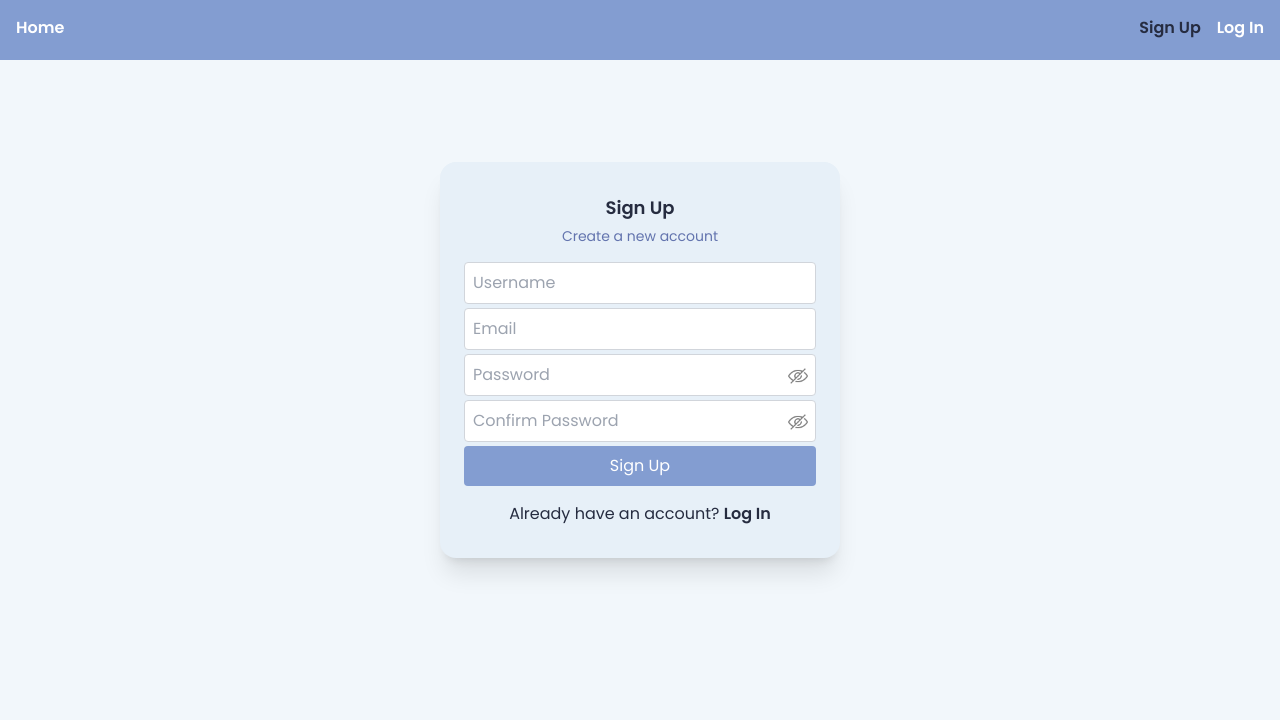
Test: Sign Up Page › displays error message on failed registration
Type "testuser" into the field named "username". click: (640, 283)
box: [464,262,816,304]
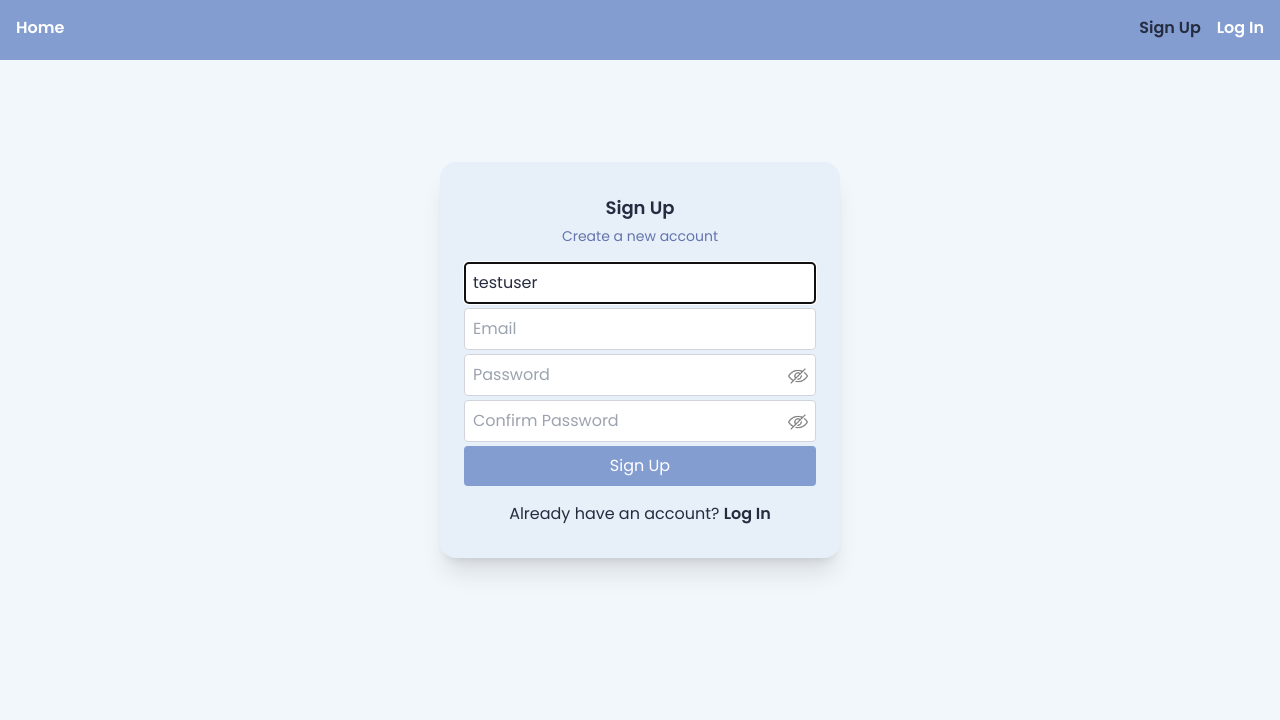
Type "test@example.com" into the field named "email". click: (640, 329)
box: [464,308,816,350]
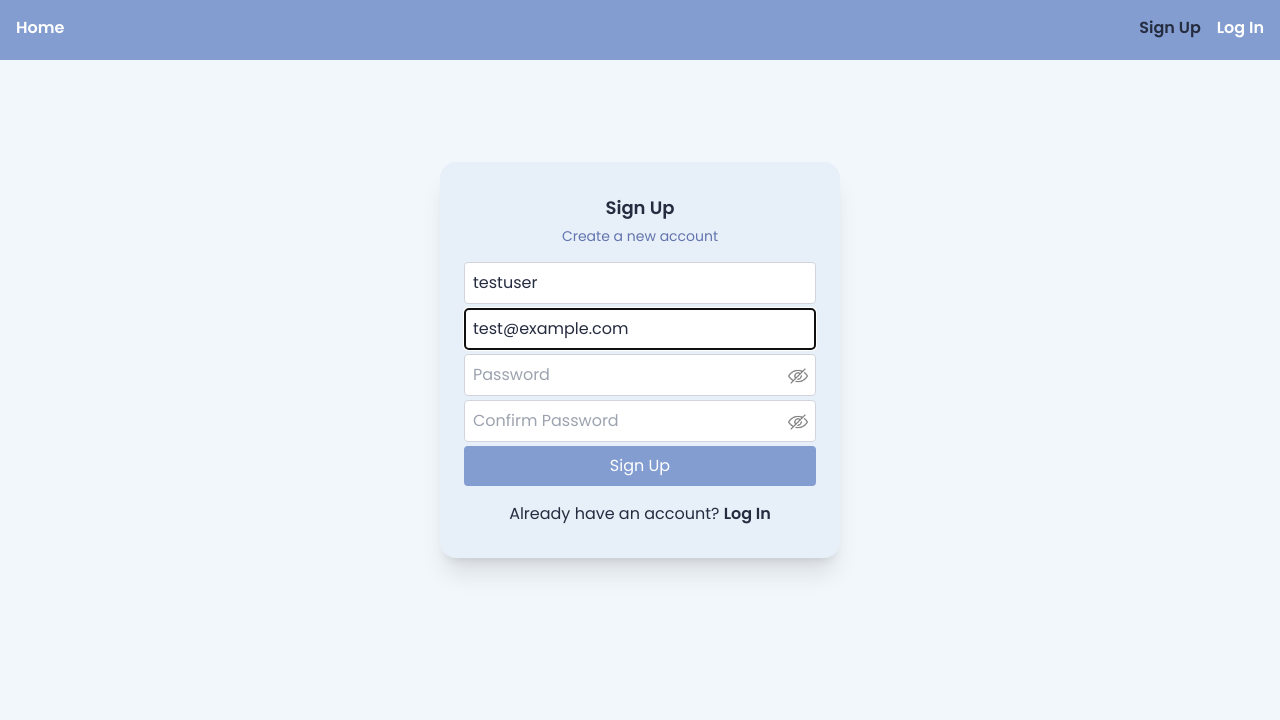
Type "password123" into the password field named "password". click: (640, 375)
box: [464,354,816,396]
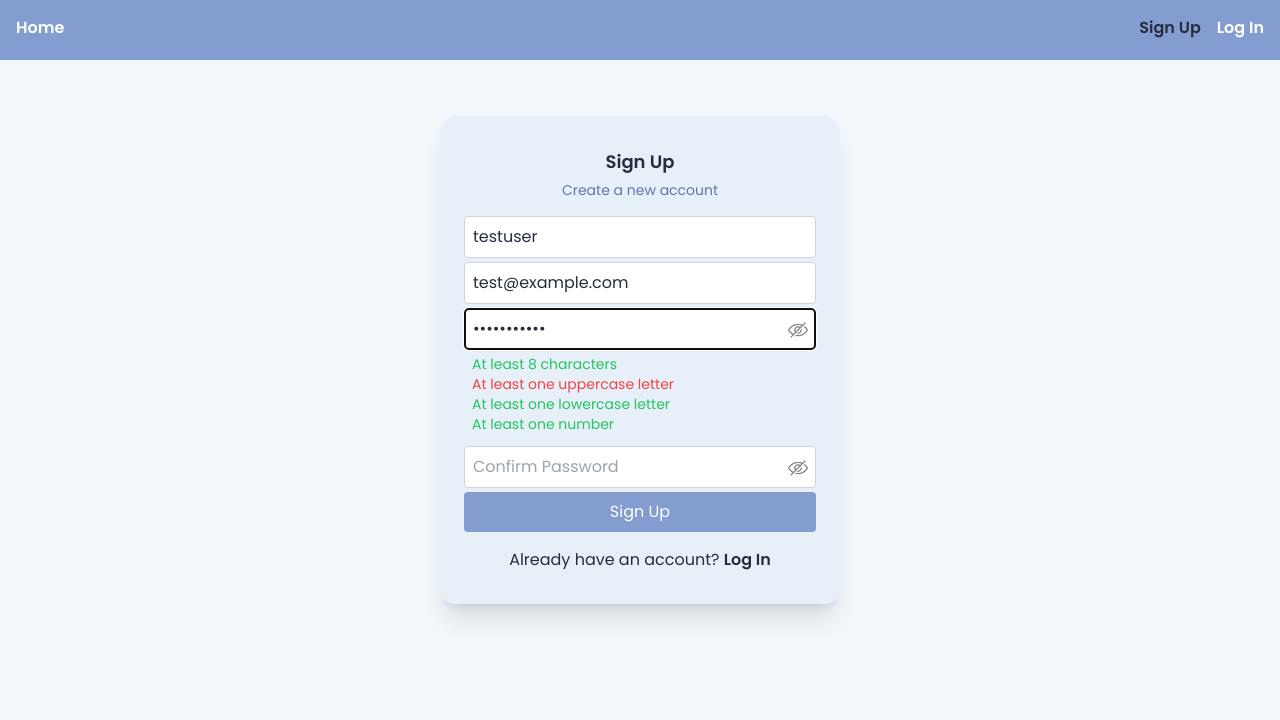
Type "password123" into the password field named "confirmPassword". click: (640, 467)
box: [464,446,816,488]
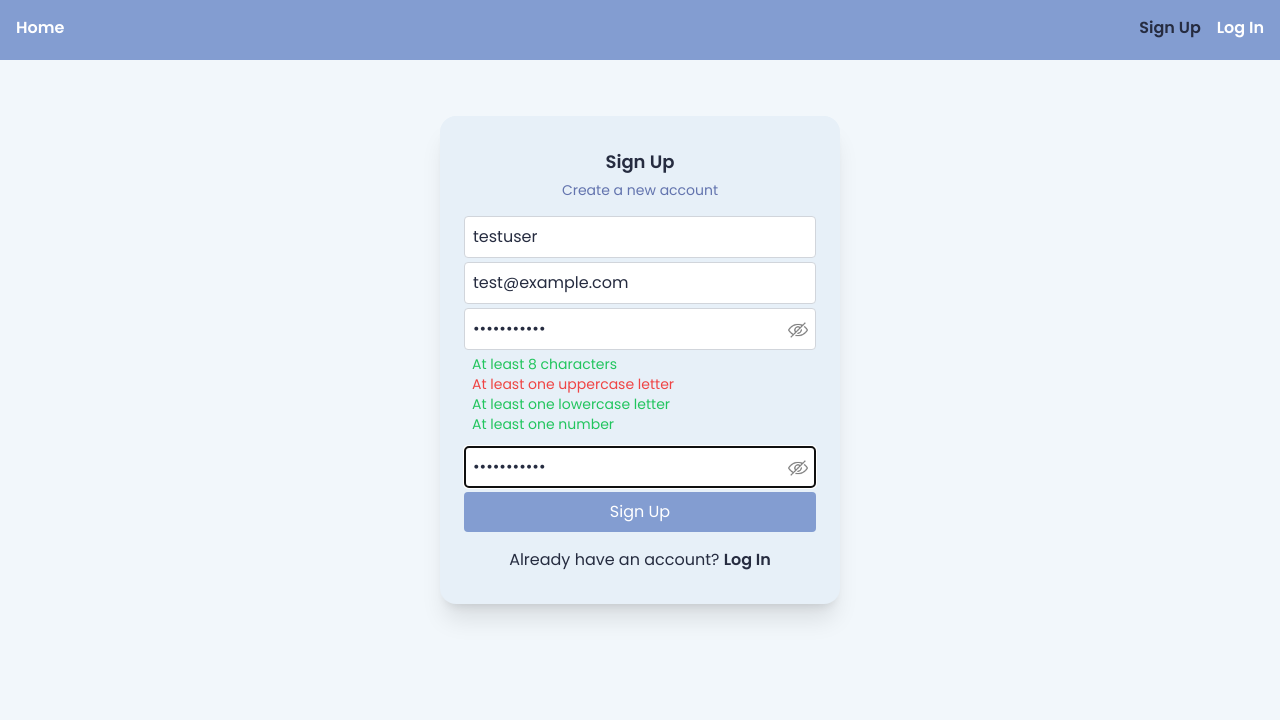
Click the submit button. click: (640, 512)
box: [464,492,816,532]
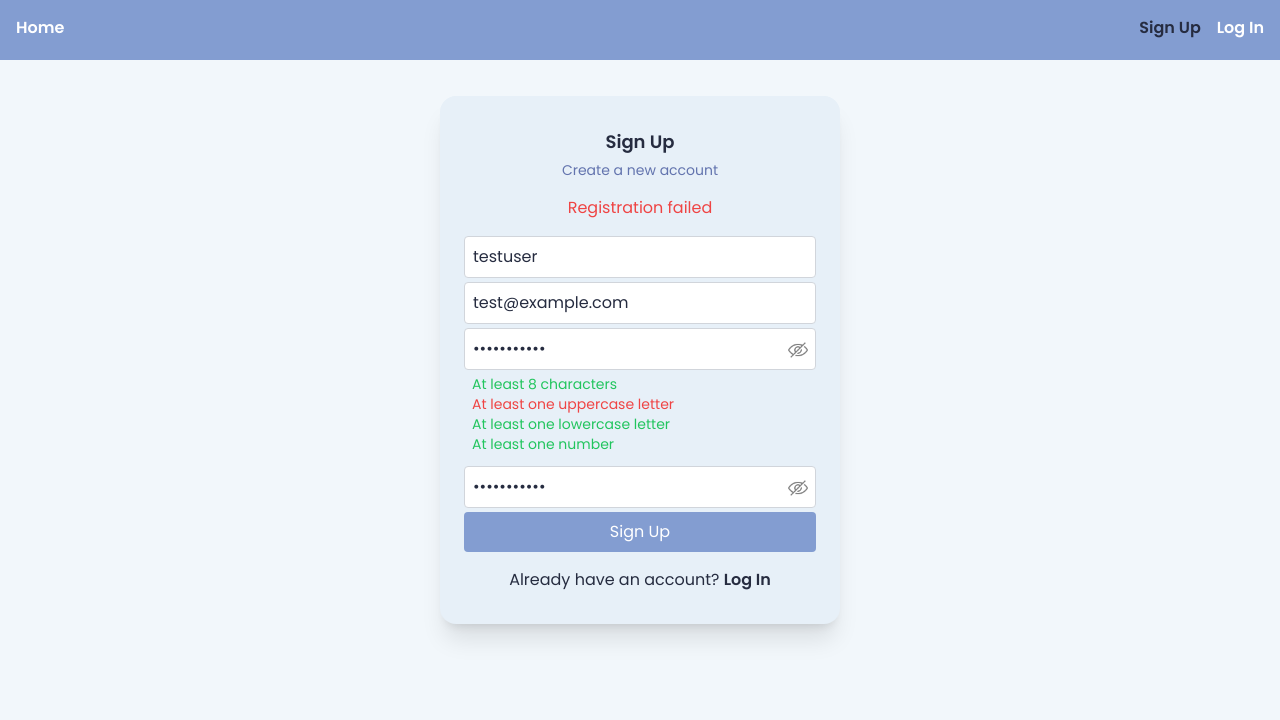
expect the text "Registration failed" is shown: met, box [568,196,712,219]
